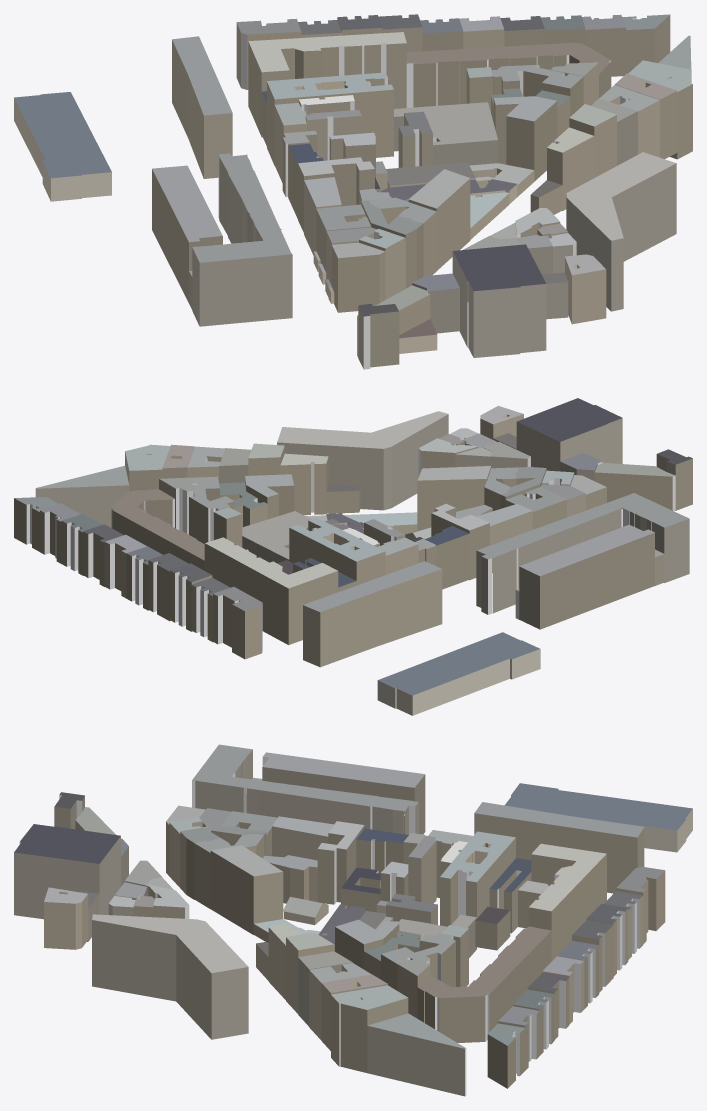
The picture shows the model from 3 angles, top to bottom: view 1: azimuth 30°, elevation 25°; view 2: azimuth 150°, elevation 25°; view 3: azimuth 270°, elevation 25°; orthographic projection. The views are drawn at different scales.
Visible parts, largest first — view 1: tuile; view 2: tuile; view 3: tuile.
Boxes of the visible parts, x1,y1,x2,y2 form: tuile: [14, 14, 692, 369]; tuile: [14, 398, 692, 715]; tuile: [14, 744, 692, 1096].
Bounding box in the file's own units: 280 × 40.6 × 281.
